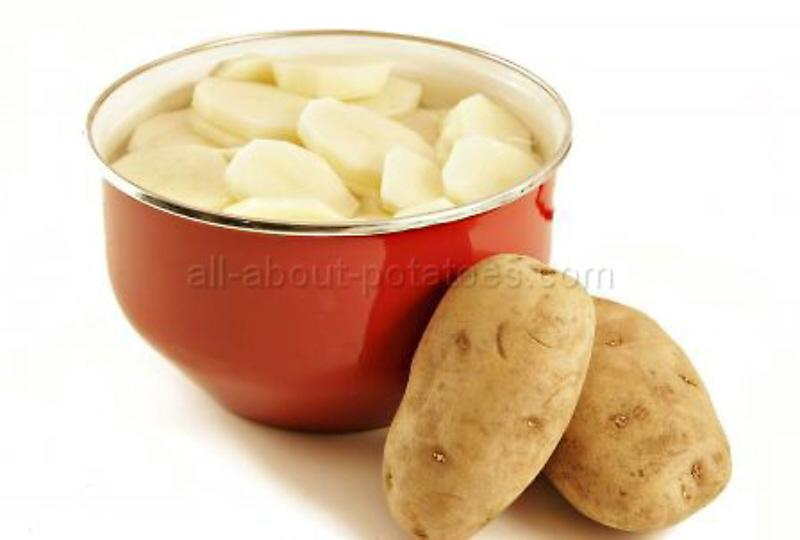boiled potatoes: (139, 50, 520, 204)
